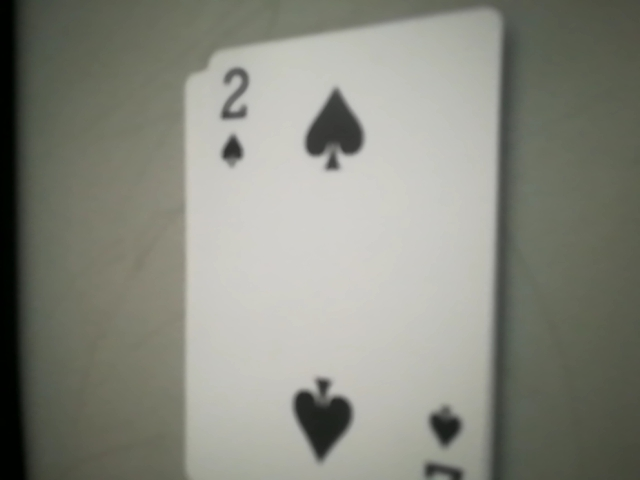ht 2: (192, 60, 280, 187)
